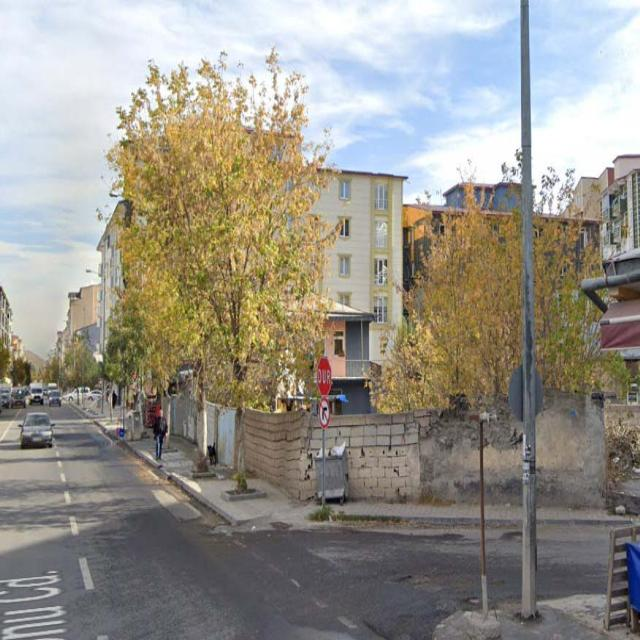dur: (316, 356, 333, 394)
sagadonulmez: (317, 398, 331, 425)
